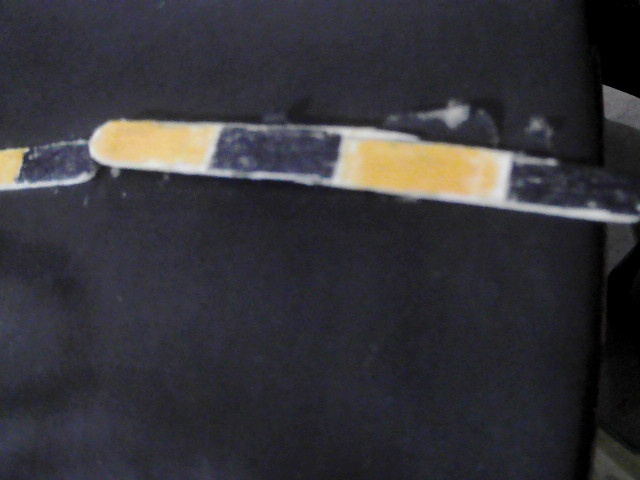black_strip: (213, 122, 342, 180), (514, 165, 640, 216), (22, 138, 86, 182)
mixed_lane: (3, 123, 636, 217)
yellow_strip: (348, 136, 503, 198), (92, 125, 207, 164), (0, 148, 22, 183)
